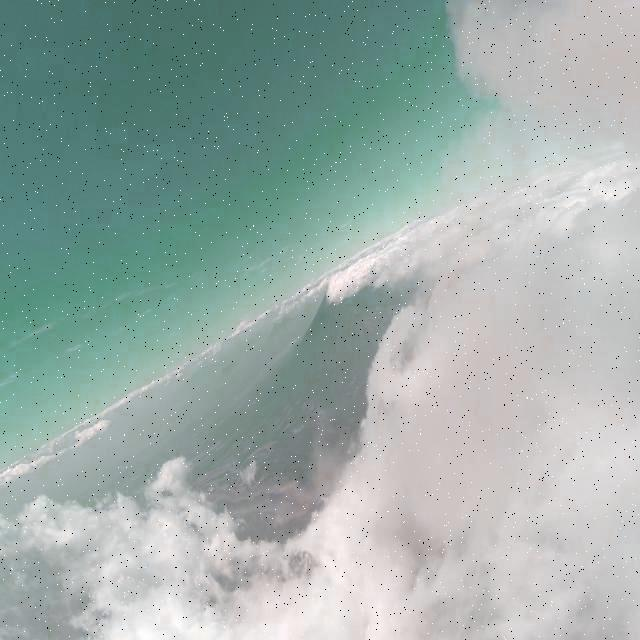Plume: (436, 0, 638, 150)
